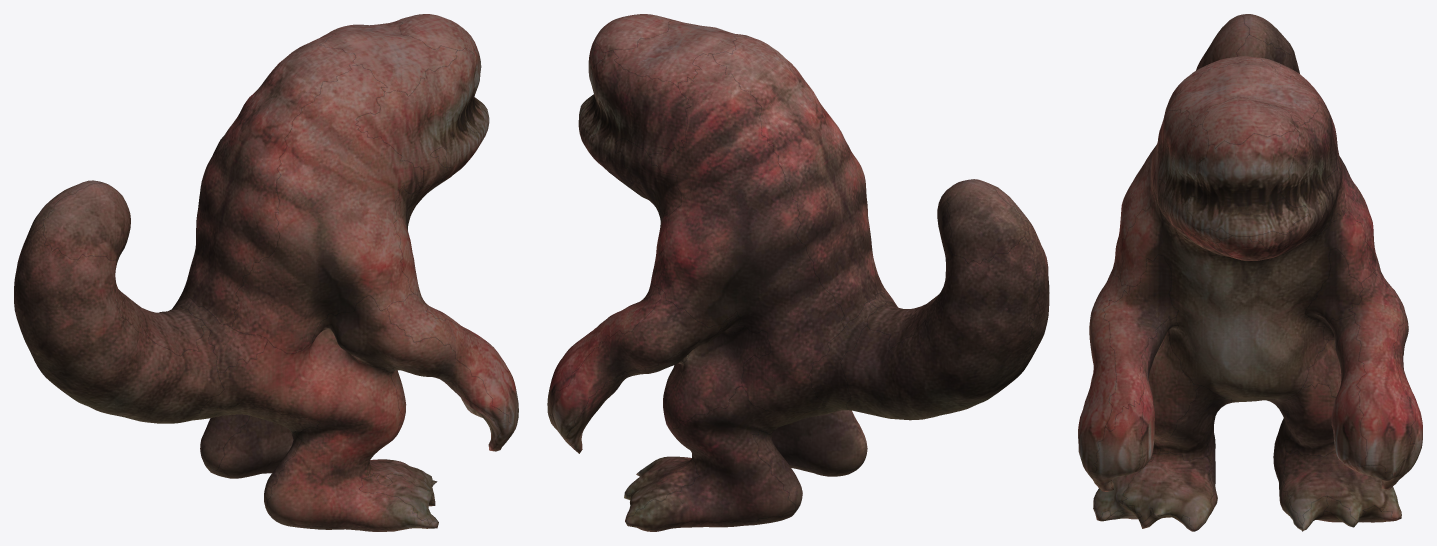
File: monster_dino.glb
The picture shows the model from 3 angles, left to right: view 1: azimuth 30°, elevation 25°; view 2: azimuth 150°, elevation 25°; view 3: azimuth 270°, elevation 25°; orthographic projection. The views are drawn at different scales.
Visible parts, largest first — view 1: Mesh1; view 2: Mesh1; view 3: Mesh1.
Boxes of the visible parts, x1,y1,x2,y2 form: Mesh1: [14, 14, 518, 531]; Mesh1: [547, 14, 1049, 531]; Mesh1: [1078, 14, 1422, 531].
Bounding box in the file's own units: 1.2 × 1.12 × 0.7595.
1 material, 1 textured.
